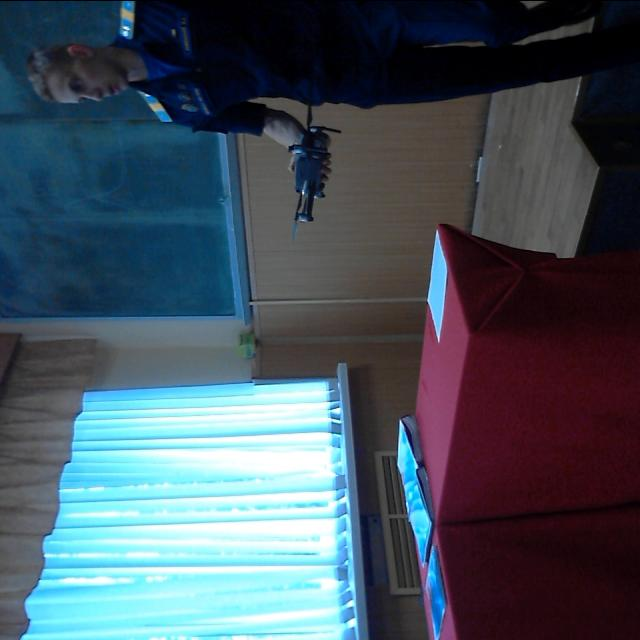drone: (269, 95, 349, 238)
